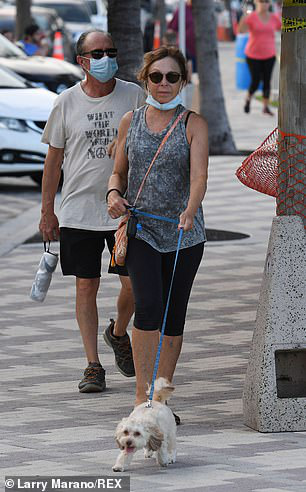mask_weared_incorrect: (140, 48, 190, 114)
with_mask: (76, 37, 121, 85)
